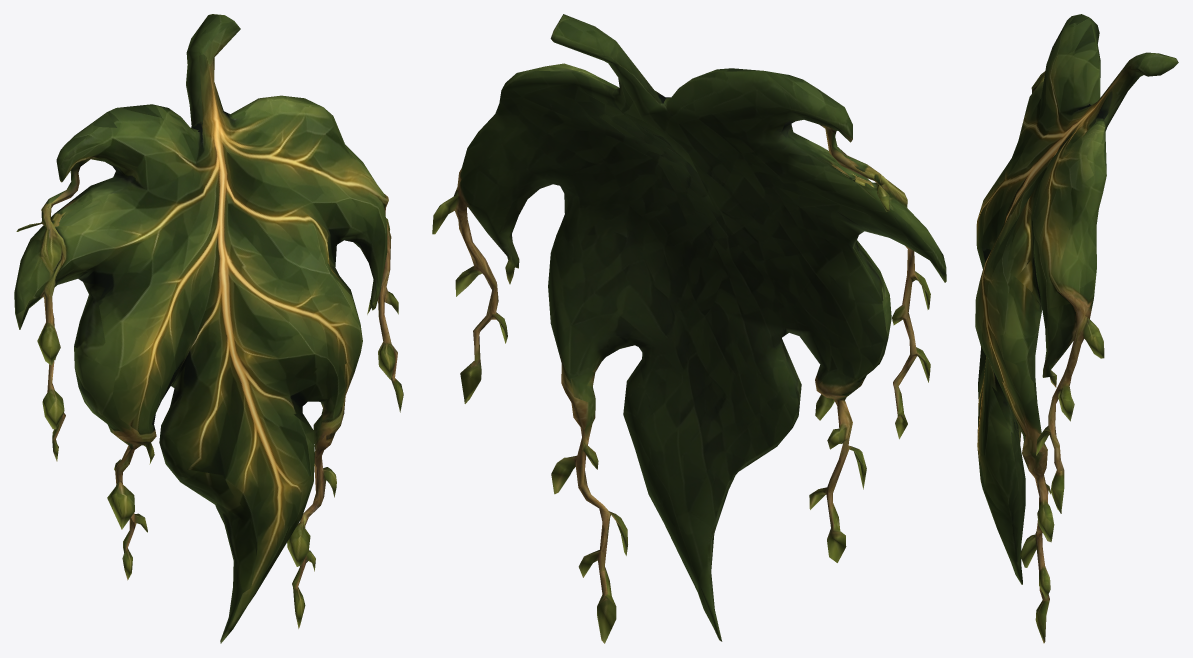
The model's file is HojaLowPoly.fbx.
The picture shows the model from 3 angles, left to right: view 1: azimuth 30°, elevation 25°; view 2: azimuth 150°, elevation 25°; view 3: azimuth 270°, elevation 25°; orthographic projection. The views are drawn at different scales.
Visible parts, largest first — view 1: Mesh0; view 2: Mesh0; view 3: Mesh0.
Part boxes in pixels (x1=…): Mesh0: x1=14, y1=14, x2=403, y2=643; Mesh0: x1=432, y1=14, x2=946, y2=643; Mesh0: x1=975, y1=14, x2=1178, y2=643.
Size of the model in its own units: 138 by 189 by 60.19.
1 material, 1 textured.
